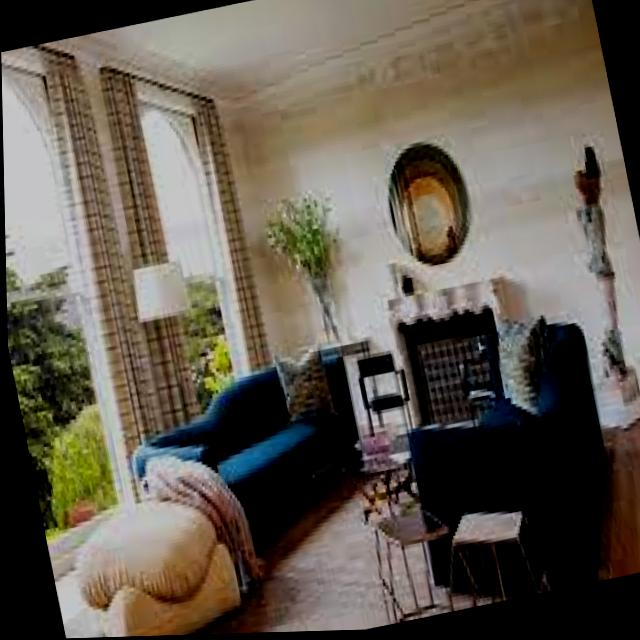noobs: (184, 511, 381, 636), (600, 417, 640, 579)
obs: (128, 358, 353, 599), (408, 322, 607, 585), (548, 140, 640, 431), (72, 500, 239, 638), (377, 513, 481, 627), (442, 514, 554, 615), (308, 433, 419, 526)
semobs: (54, 570, 101, 639)
